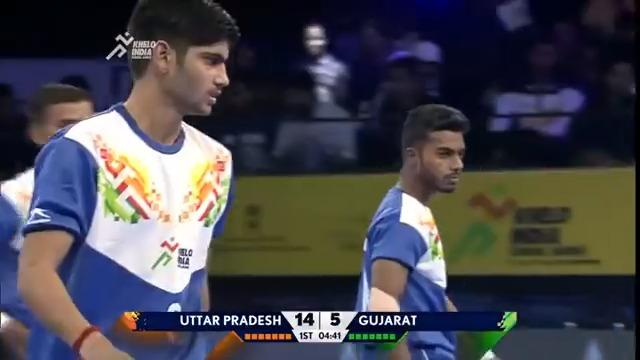Player: (14, 0, 240, 358), (342, 102, 517, 359)
referee: (0, 81, 96, 358), (284, 21, 354, 119), (23, 81, 95, 148)
